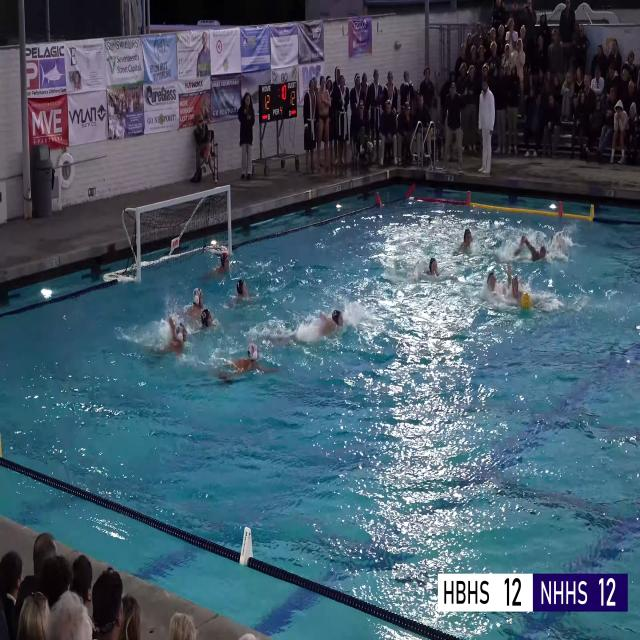ball: (521, 292, 532, 310)
